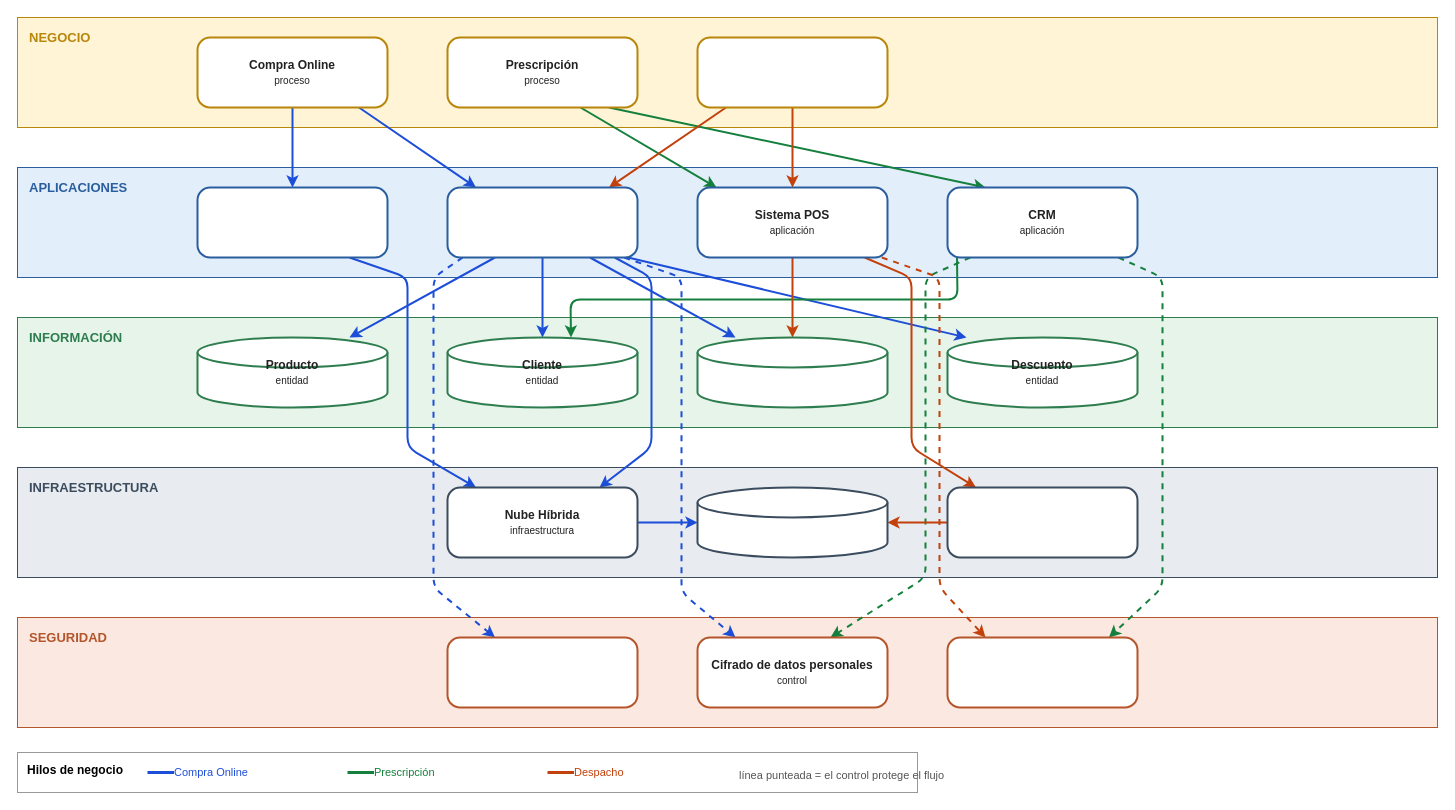
Image size: 1455x810. Some labels were removed from this diagram. The centre of each missing label's shape, as x and y in pixels:
"App Móvil aplicación" belongs at (292,222).
"Base de Datos Replicada infraestructura" belongs at (792,522).
"Control de acceso por rol control" belongs at (1042,672).
"Despacho proceso" belongs at (792,72).
"Monitoreo de fraude control" belongs at (542,672).
"Pedido entidad" belongs at (792,372).
"Plataforma E-commerce aplicación" belongs at (542,222).
"Servidores Regionales infraestructura" belongs at (1042,522).
